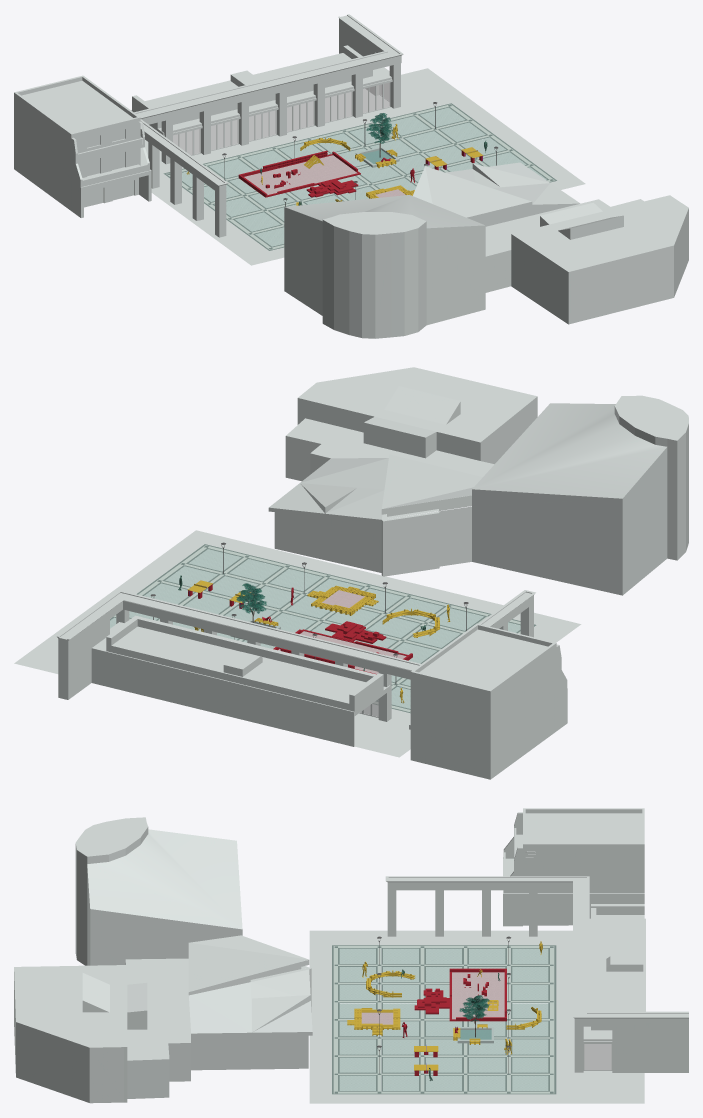
The model's file is websitemodel.glb.
3 views of the same model, one above another, from view 1: azimuth 30°, elevation 25°; view 2: azimuth 150°, elevation 25°; view 3: azimuth 270°, elevation 25° (orthographic). The views are drawn at different scales.
Parts seen in each view (by area): view 1: barrière sécurité chantier.dwg#2, square 1 component, object 9, object 2, object 1, skpD0CF; view 2: barrière sécurité chantier.dwg#2, square 1 component, object 1, object 2, skpD0CF; view 3: barrière sécurité chantier.dwg#2, square 1 component, object 1, object 2, object 9, skpD0CF.
Part boxes in pixels (bbox=[...]): barrière sécurité chantier.dwg#2: bbox=[14, 14, 688, 338]; square 1 component: bbox=[182, 107, 546, 246]; object 9: bbox=[173, 82, 389, 155]; object 2: bbox=[244, 155, 405, 197]; object 1: bbox=[186, 124, 483, 205]; skpD0CF: bbox=[366, 113, 393, 157]; barrière sécurité chantier.dwg#2: bbox=[14, 367, 688, 779]; square 1 component: bbox=[110, 549, 520, 708]; object 1: bbox=[188, 580, 450, 703]; object 2: bbox=[278, 590, 406, 673]; skpD0CF: bbox=[236, 583, 266, 622]; barrière sécurité chantier.dwg#2: bbox=[14, 808, 688, 1103]; square 1 component: bbox=[339, 948, 548, 1090]; object 1: bbox=[347, 941, 542, 1070]; object 2: bbox=[361, 972, 504, 1024]; object 9: bbox=[584, 1044, 611, 1070]; skpD0CF: bbox=[459, 995, 489, 1037].
Size of the model in its own units: 57.3 by 14.04 by 76.41.
10 materials, 10 textured.
